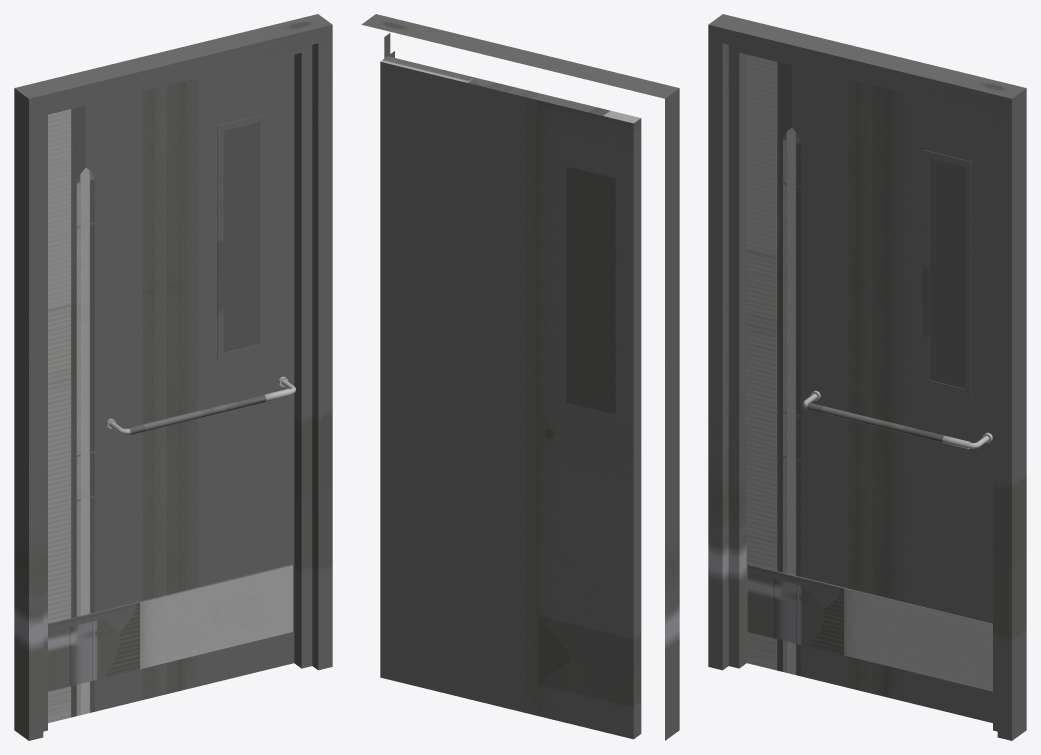
The model's file is front-door.glb.
3 views of the same model, side by side, from view 1: azimuth 30°, elevation 25°; view 2: azimuth 150°, elevation 25°; view 3: azimuth 330°, elevation 25° (orthographic).
Parts seen in each view (by area): view 1: Object_1, Object_0; view 2: Object_1; view 3: Object_1, Object_0.
Boxes of the visible parts, x1,y1,x2,y2 form: Object_1: [14, 14, 332, 740]; Object_0: [223, 122, 259, 352]; Object_1: [361, 14, 679, 740]; Object_1: [708, 14, 1026, 740]; Object_0: [929, 158, 965, 388].
Bounding box in the file's own units: 149 × 300 × 19.05.
2 materials, 1 textured.
